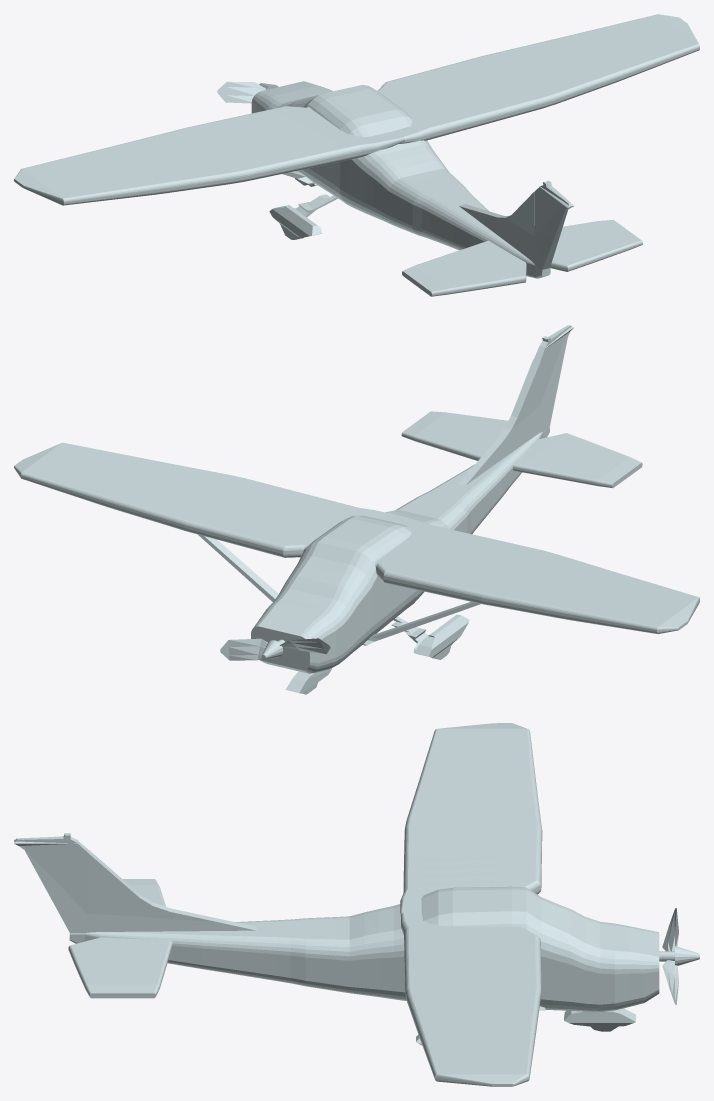
3 views of the same model, one above another, from view 1: azimuth 30°, elevation 25°; view 2: azimuth 150°, elevation 25°; view 3: azimuth 270°, elevation 25° (orthographic). The views are drawn at different scales.
Parts seen in each view (by area): view 1: Aircraft visual hull, Rotor 1790466346195-2cxwmd87tg; view 2: Aircraft visual hull, Rotor 1790466346195-2cxwmd87tg; view 3: Aircraft visual hull, Rotor 1790466346195-2cxwmd87tg.
Boxes of the visible parts, x1,y1,x2,y2 form: Aircraft visual hull: [14, 14, 699, 296]; Rotor 1790466346195-2cxwmd87tg: [217, 81, 278, 103]; Aircraft visual hull: [14, 325, 699, 694]; Rotor 1790466346195-2cxwmd87tg: [220, 638, 330, 660]; Aircraft visual hull: [14, 723, 659, 1086]; Rotor 1790466346195-2cxwmd87tg: [659, 908, 699, 1004].
Bounding box in the file's own units: 10.96 × 2.8 × 8.82.
